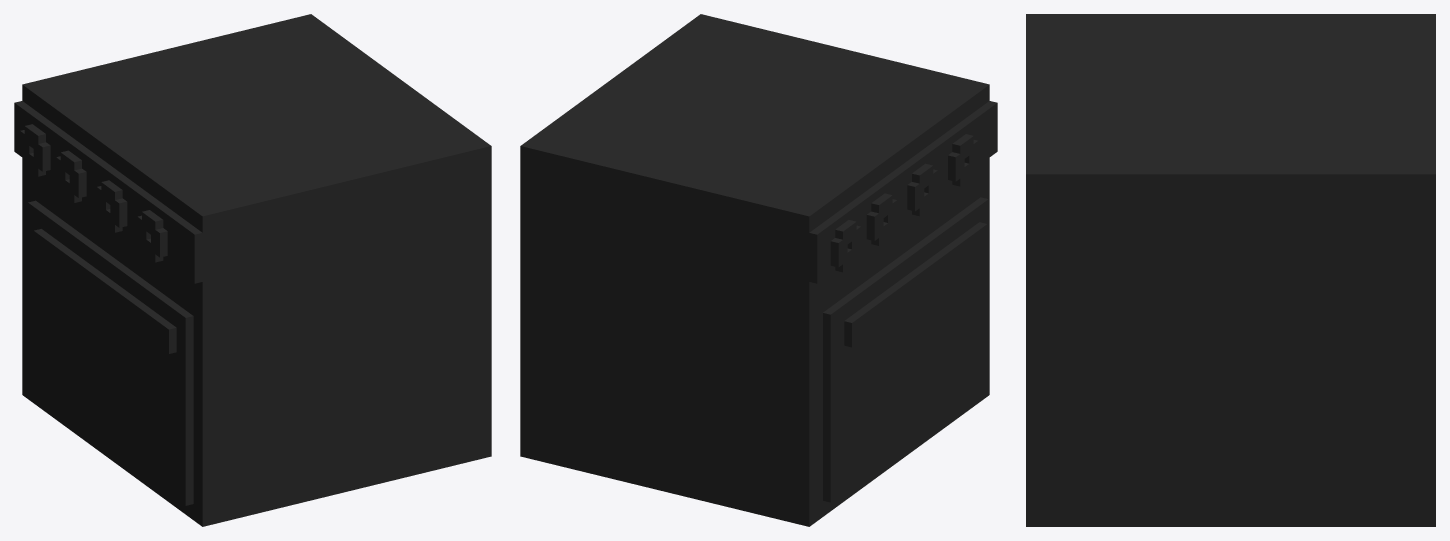
File: washingmachine.obj
3 renders of one model, left to right at view 1: azimuth 30°, elevation 25°; view 2: azimuth 150°, elevation 25°; view 3: azimuth 270°, elevation 25°, orthographic. The views are drawn at different scales.
Visible parts, largest first — view 1: washingmachine; view 2: washingmachine; view 3: washingmachine.
Boxes of the visible parts, box(x1,y1,x2,y2) form: washingmachine: box(14, 14, 491, 526); washingmachine: box(520, 14, 997, 526); washingmachine: box(1026, 14, 1435, 526).
Bounding box in the file's own units: 39 × 38 × 40.
